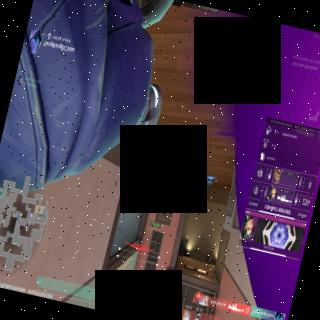ENEMY-BODY: (140, 168, 158, 212)
ENEMY-HEAD: (144, 202, 148, 208)
